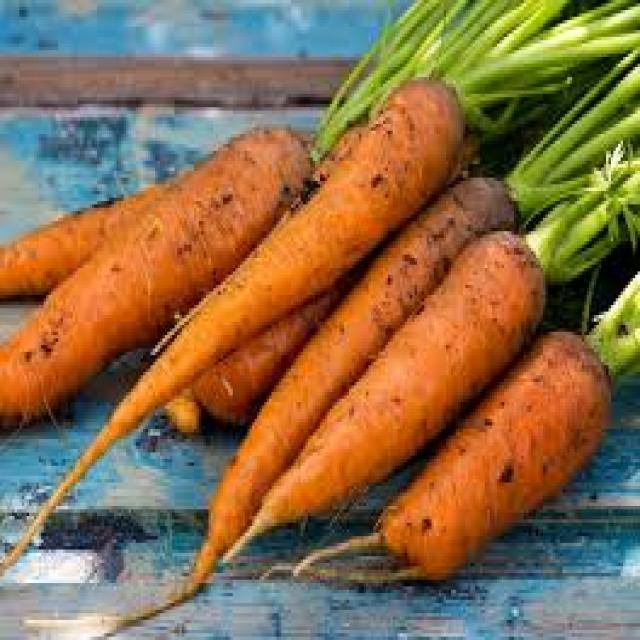Stale_Carrot: (378, 178, 580, 379), (298, 146, 516, 322), (135, 100, 307, 318), (276, 65, 448, 276), (439, 302, 606, 498)
